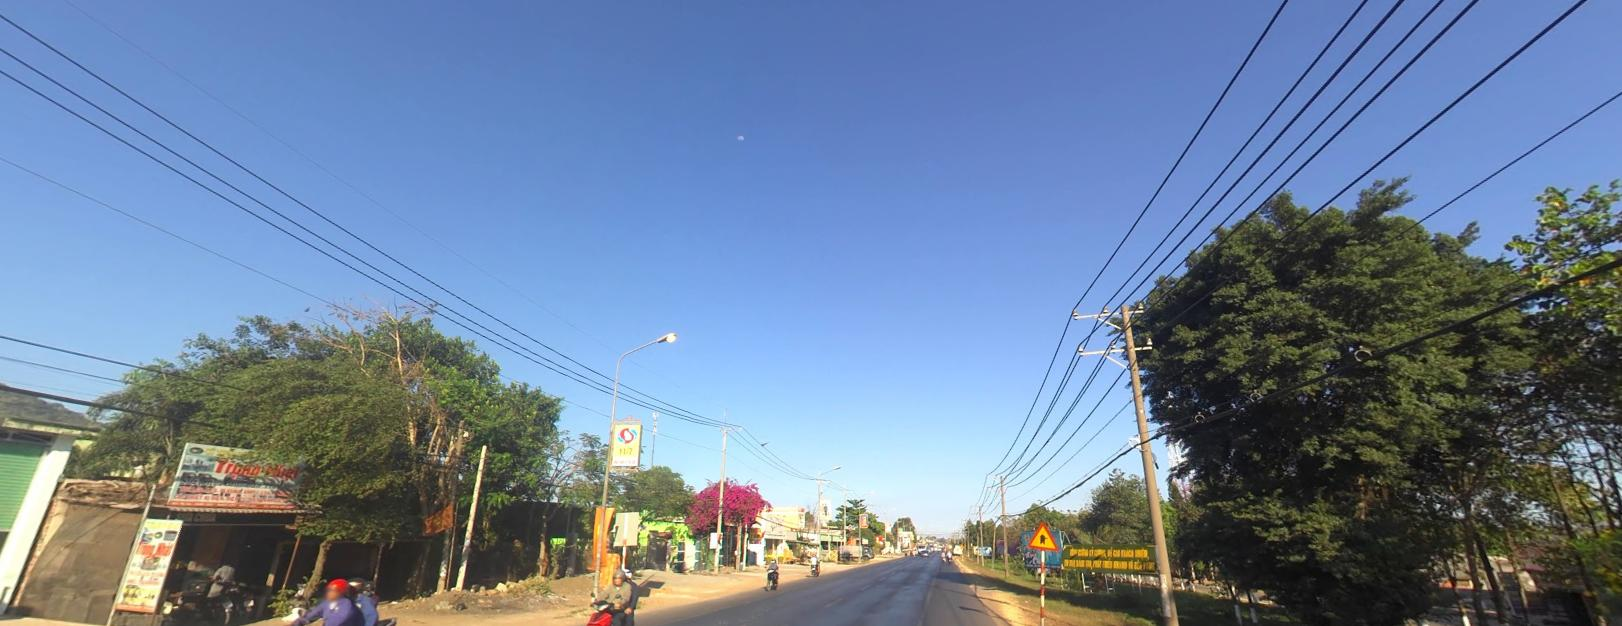Nguy hiem: (1026, 519, 1058, 550)
